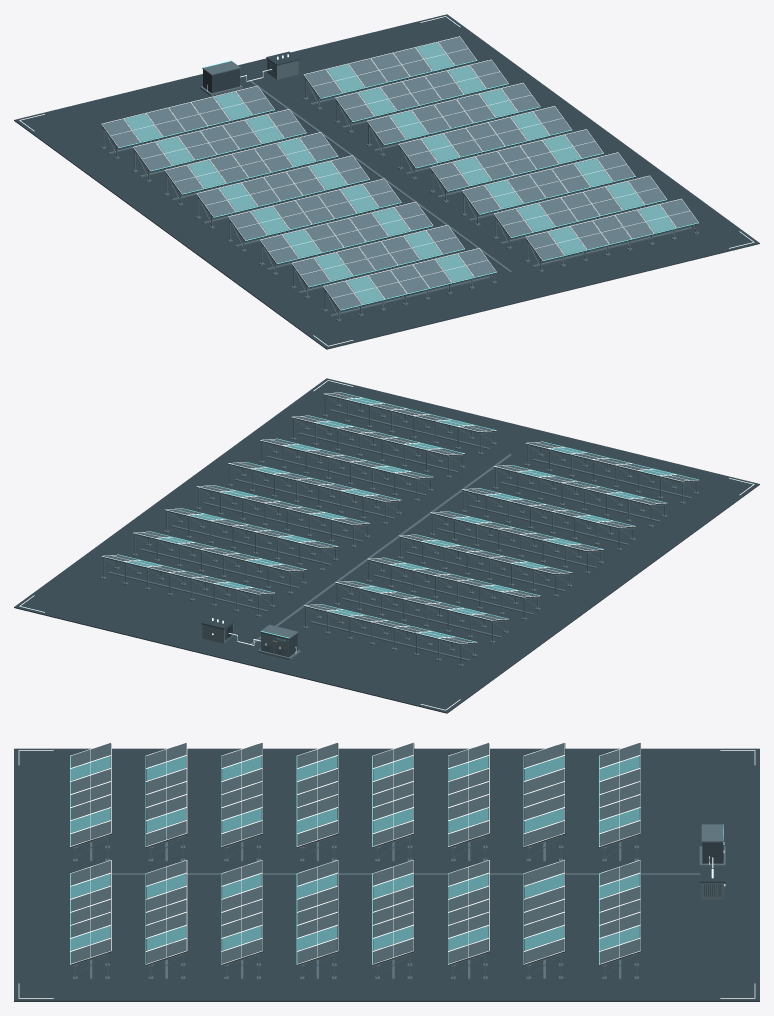
Rendered from solar_array.glb.
3 renders of one model, top to bottom at view 1: azimuth 30°, elevation 25°; view 2: azimuth 150°, elevation 25°; view 3: azimuth 270°, elevation 25°, orthographic. The views are drawn at different scales.
Visible parts, largest first — view 1: solar_array_graphite_light, solar_array_graphite, solar_array_glass, solar_array_white, solar_array_edge; view 2: solar_array_graphite, solar_array_graphite_light, solar_array_white, solar_array_glass, solar_array_edge; view 3: solar_array_graphite, solar_array_graphite_light, solar_array_glass, solar_array_white, solar_array_edge.
Part boxes in pixels (x1=…): solar_array_graphite_light: x1=100, y1=37, x2=699, y2=321; solar_array_graphite: x1=14, y1=14, x2=759, y2=349; solar_array_glass: x1=125, y1=43, x2=674, y2=303; solar_array_white: x1=19, y1=16, x2=754, y2=346; solar_array_edge: x1=119, y1=60, x2=698, y2=310; solar_array_graphite: x1=14, y1=378, x2=759, y2=713; solar_array_graphite_light: x1=100, y1=392, x2=699, y2=666; solar_array_white: x1=19, y1=380, x2=754, y2=710; solar_array_glass: x1=126, y1=398, x2=672, y2=641; solar_array_edge: x1=119, y1=392, x2=697, y2=642; solar_array_graphite: x1=14, y1=742, x2=759, y2=1001; solar_array_graphite_light: x1=71, y1=743, x2=725, y2=979; solar_array_glass: x1=71, y1=756, x2=639, y2=950; solar_array_white: x1=18, y1=742, x2=755, y2=998; solar_array_edge: x1=70, y1=755, x2=723, y2=964.
Size of the model in its own units: 120 by 6.5 by 150.
